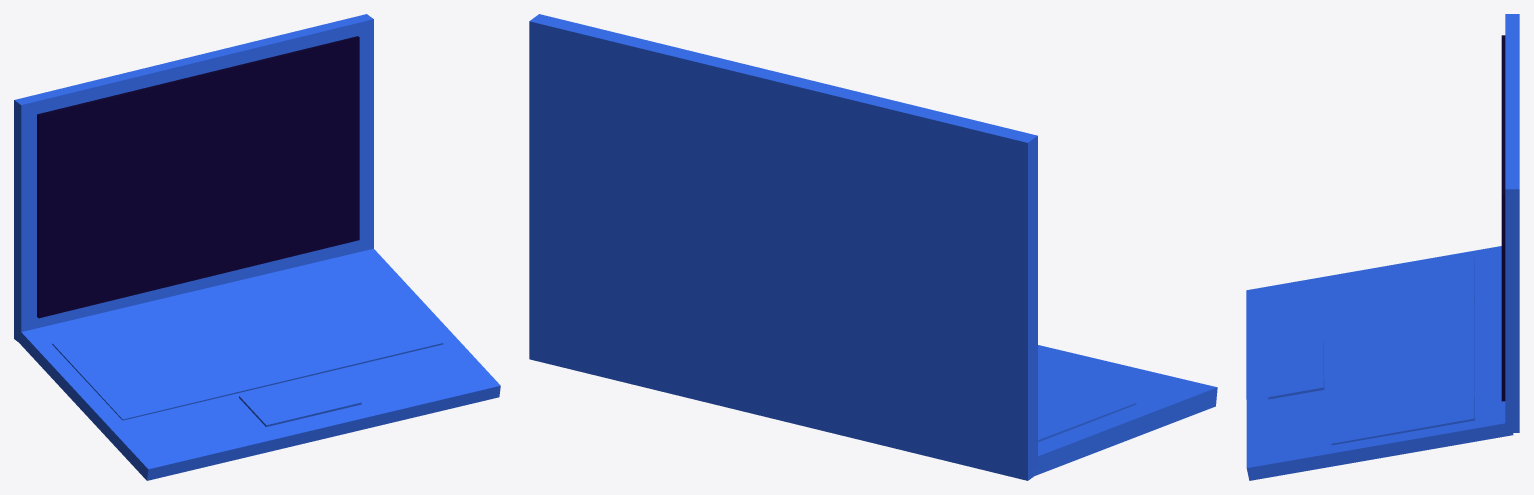
File: laptop-blue.gltf
3 views of the same model, side by side, from view 1: azimuth 30°, elevation 25°; view 2: azimuth 150°, elevation 25°; view 3: azimuth 270°, elevation 25° (orthographic). The views are drawn at different scales.
Visible parts, largest first — view 1: Cube.002, Cube.001, Cube.003, Cube, Cube.004; view 2: Cube, Cube.001, Cube.003; view 3: Cube.003, Cube.001, Cube, Cube.004, Cube.002.
Boxes of the visible parts, x1,y1,x2,y2 form: Cube.002: (37,36,359,318); Cube.001: (17,248,500,480); Cube.003: (52,267,443,420); Cube: (14,14,373,341); Cube.004: (239,373,361,426); Cube: (529,14,1037,480); Cube.001: (1032,345,1217,476); Cube.003: (1038,379,1136,442); Cube.003: (1331,257,1474,445); Cube.001: (1246,246,1513,480); Cube: (1505,14,1519,432); Cube.004: (1268,339,1324,399); Cube.002: (1501,35,1505,401).
Bounding box in the file's own units: 1.73 × 1.34 × 1.14.
